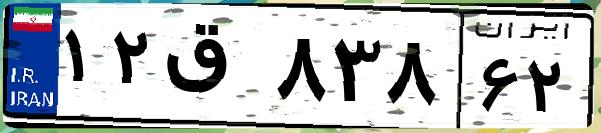1: (57, 26, 110, 100)
2: (525, 38, 570, 115), (110, 28, 158, 98)
3: (330, 28, 385, 110)
6: (475, 38, 525, 113)
8: (270, 28, 330, 110), (385, 28, 445, 110)
ق: (158, 20, 270, 120)
